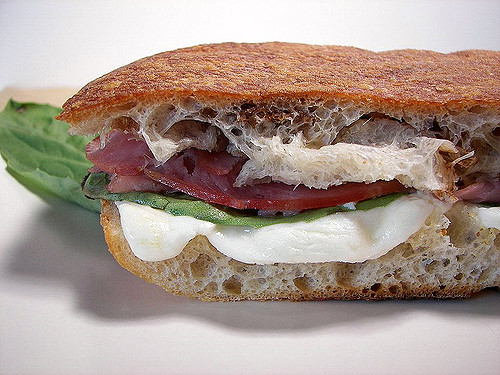slice of bread: (94, 197, 482, 297)
